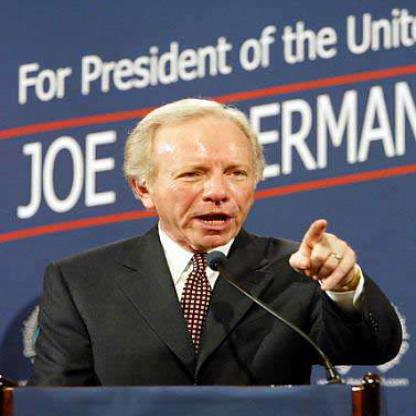face: (148, 105, 261, 251)
